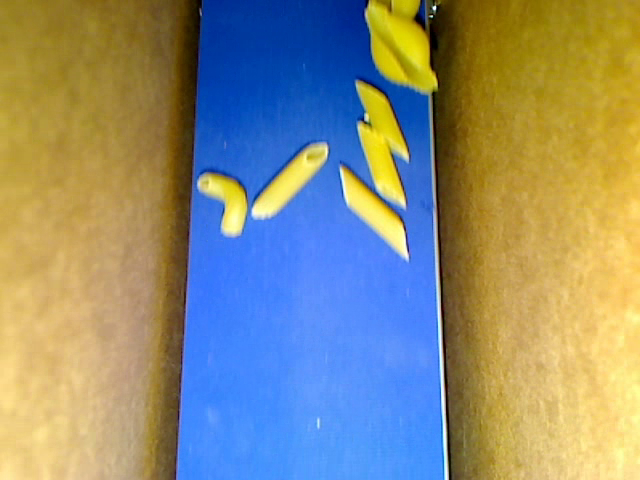elbow: (195, 173, 246, 236)
penne: (338, 164, 409, 263), (251, 141, 328, 217), (355, 120, 407, 205), (354, 80, 409, 160)
shell: (364, 1, 437, 95), (374, 1, 420, 23)
